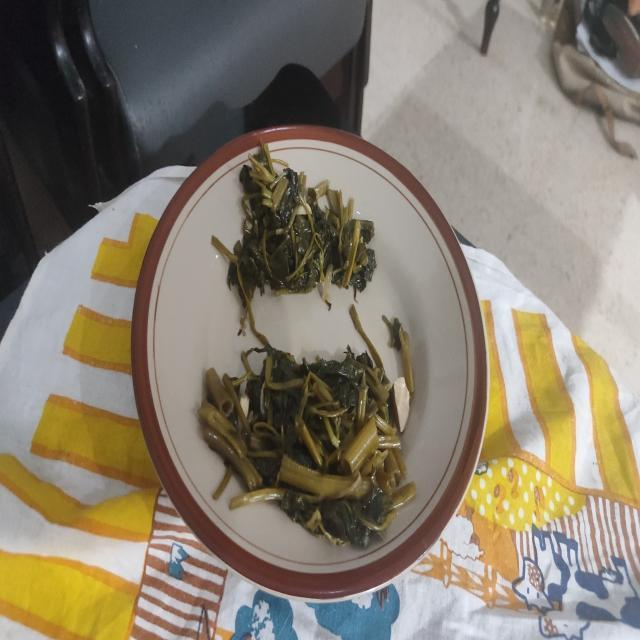tumis_kangkung: (199, 306, 415, 546), (228, 144, 376, 308)
